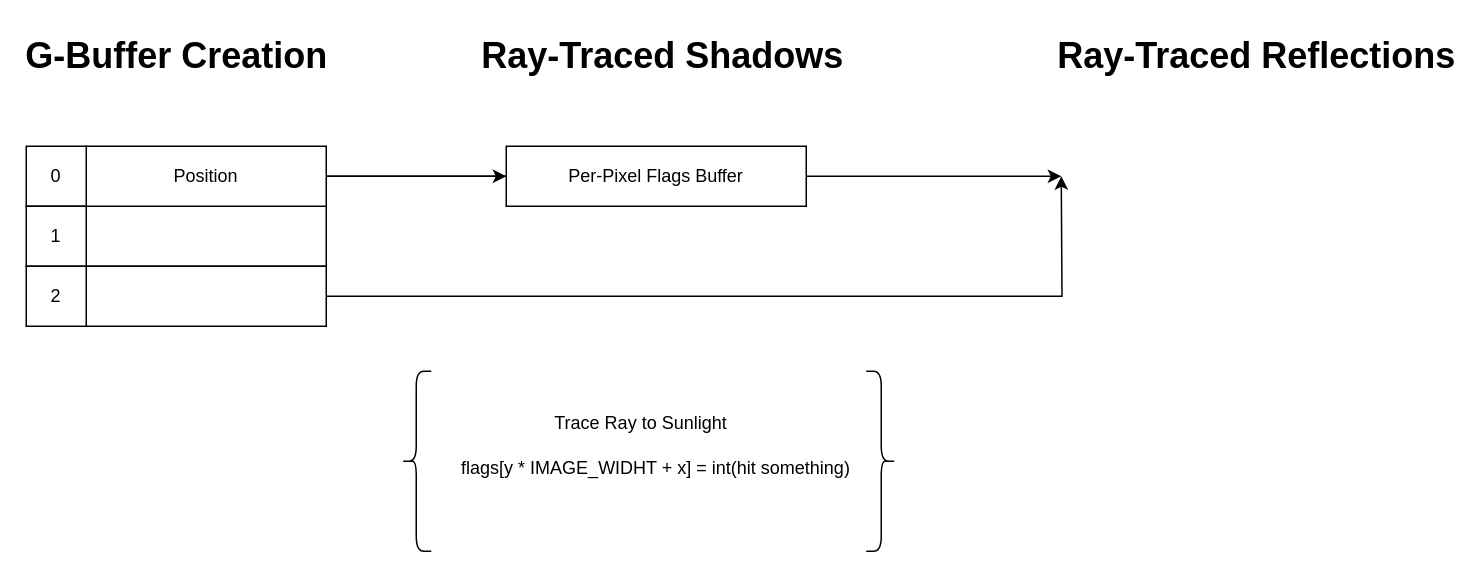
This 1481x578 diagram has some shape labels left out. The shapes that lost their labels are listed below. From the top down, each one's centre as x and y in pixels, then its label:
(205,235): Color
(205,295): Normal
